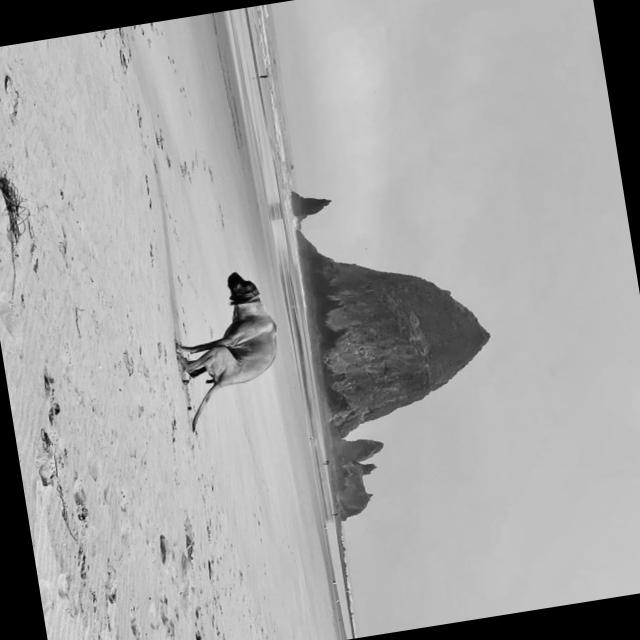squatting: (160, 264, 296, 436)
